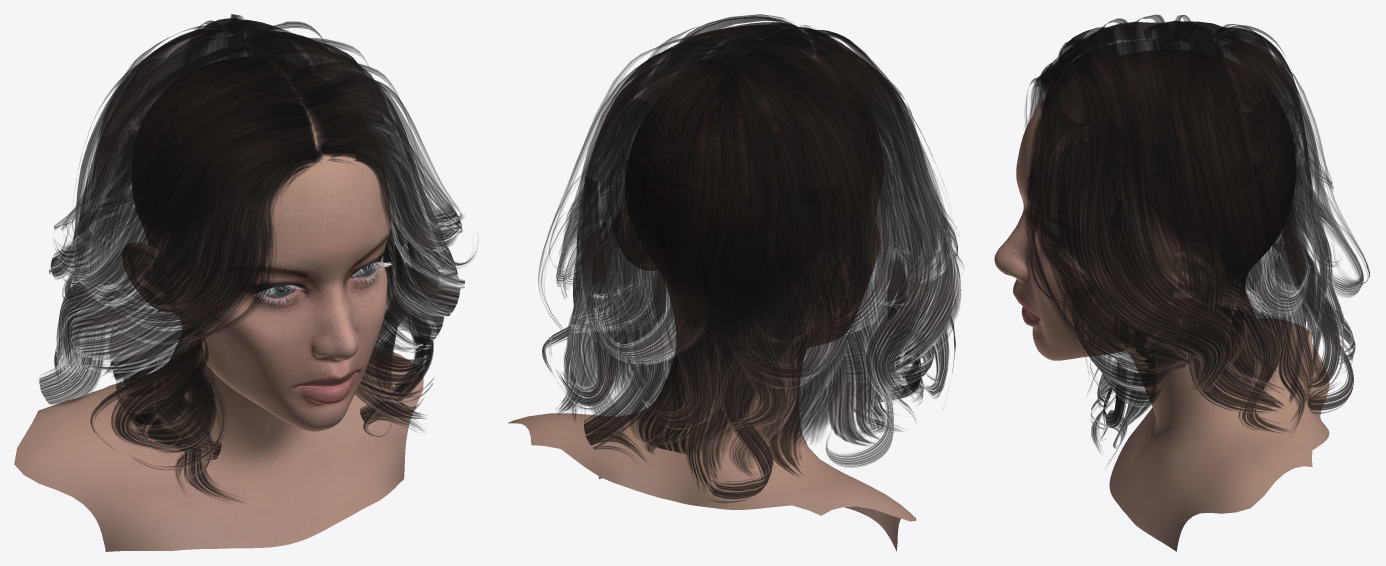
The model's file is 真人头像_女_angelica_opt.glb.
3 renders of one model, left to right at view 1: azimuth 30°, elevation 25°; view 2: azimuth 150°, elevation 25°; view 3: azimuth 270°, elevation 25°, orthographic. The views are drawn at different scales.
Visible parts, largest first — view 1: Hair_Hair_0, Head_Head_0, Eyelashes_Eyelashes_0, Eye_Eye_0; view 2: Hair_Hair_0, Head_Head_0; view 3: Hair_Hair_0, Head_Head_0.
Part boxes in pixels (x1=…): Hair_Hair_0: x1=39, y1=14, x2=477, y2=502; Head_Head_0: x1=14, y1=57, x2=423, y2=551; Eyelashes_Eyelashes_0: x1=254, y1=261, x2=391, y2=304; Eye_Eye_0: x1=261, y1=262, x2=377, y2=298; Hair_Hair_0: x1=538, y1=14, x2=963, y2=502; Head_Head_0: x1=508, y1=50, x2=916, y2=551; Hair_Hair_0: x1=1024, y1=14, x2=1369, y2=464; Head_Head_0: x1=994, y1=50, x2=1329, y2=551.
Size of what is drawn, in the model's own units: 0.2657 by 0.3 by 0.2271.
Materials: 5 (4 with a texture image).
